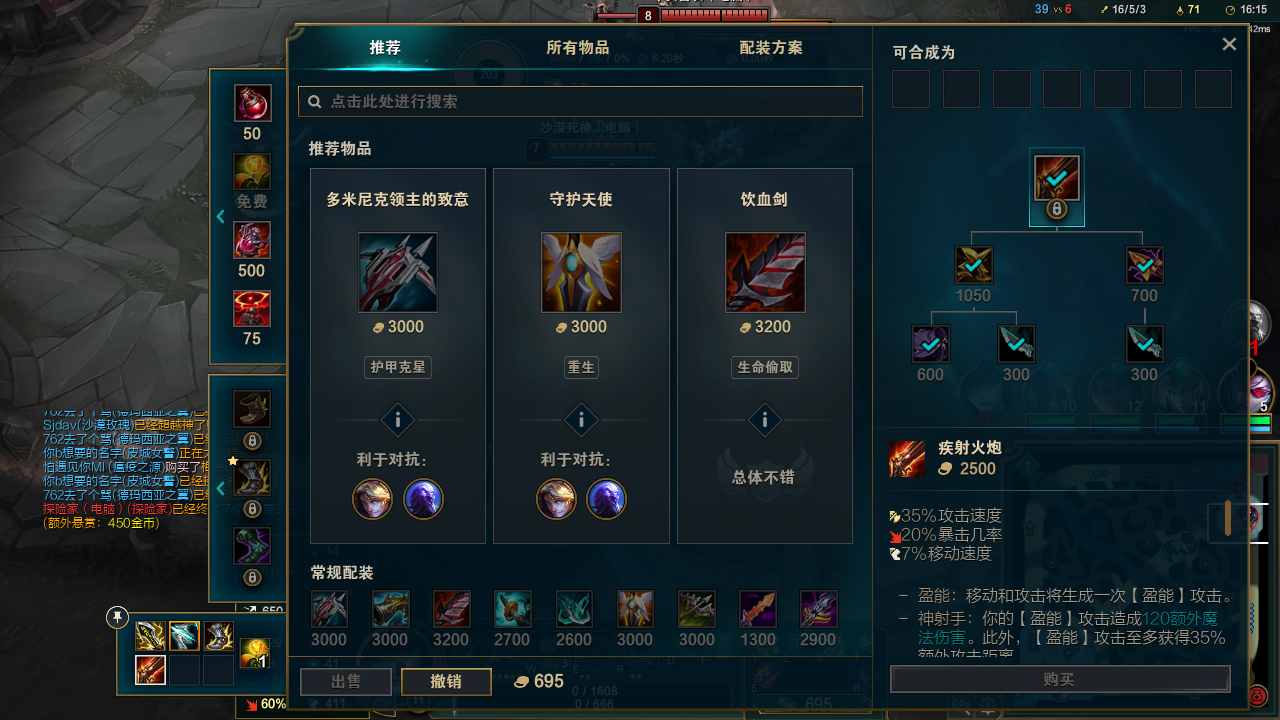DFYX: (655, 10, 767, 20)
GTH: (730, 396, 798, 447), (556, 397, 612, 440), (377, 400, 429, 437)
TJJM: (337, 27, 439, 76)
